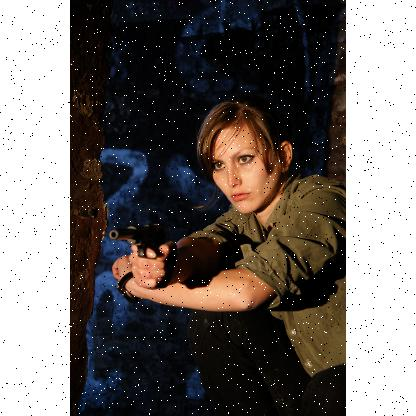gun: (108, 223, 167, 259)
